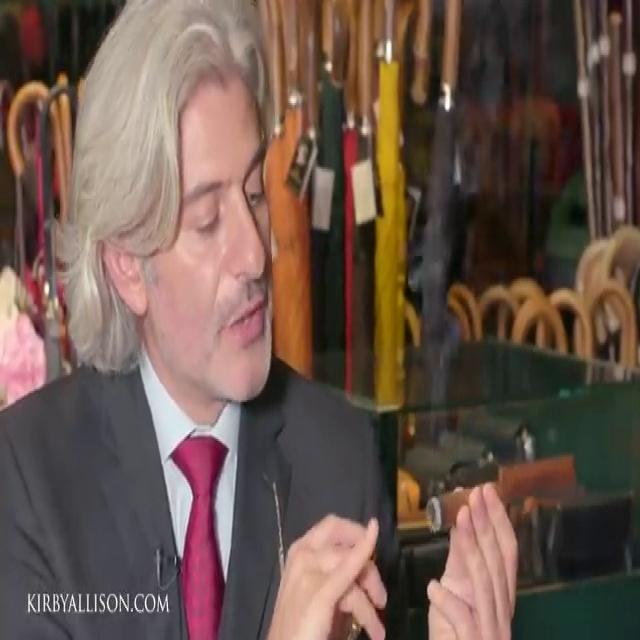Smooking: (425, 436, 508, 556)
